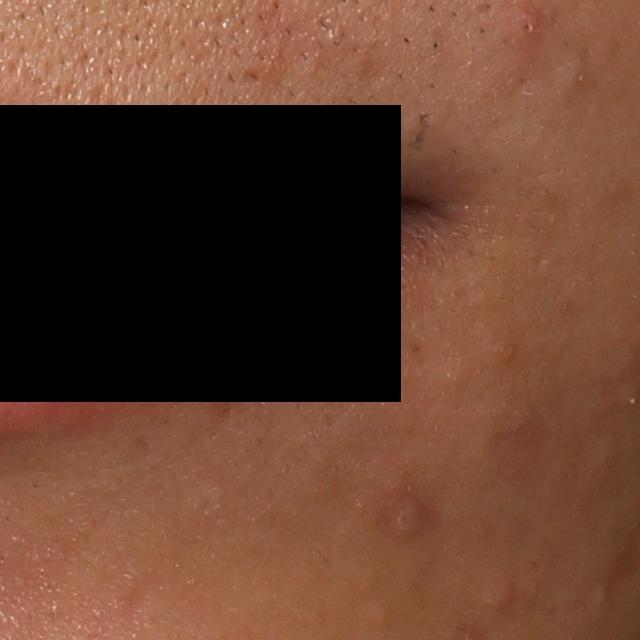comedo: (591, 579, 613, 609)
papule: (385, 496, 430, 539), (480, 575, 517, 620), (504, 6, 542, 45)
